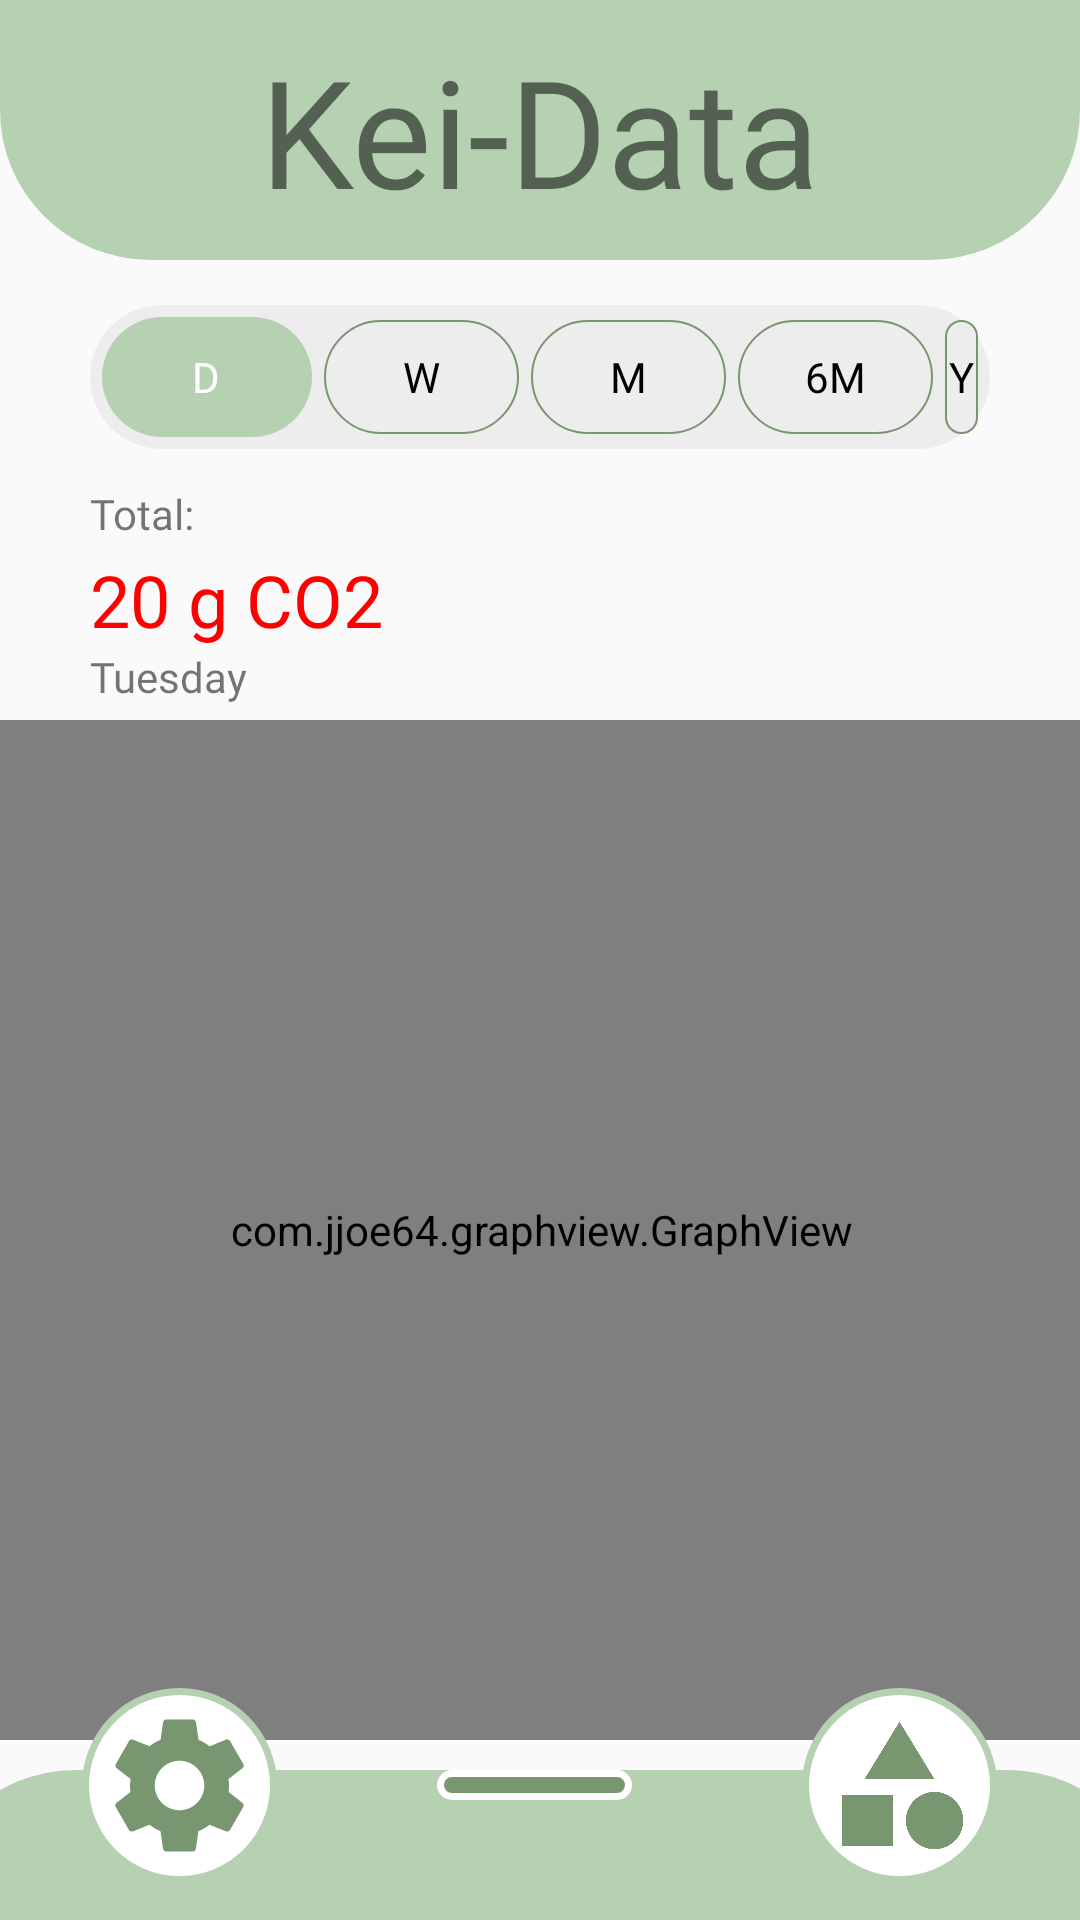

Screen size 1080 × 1920. Icon name, then its center in pixels as point (x, y):
category: point (899, 1785)
settings: point (179, 1785)
